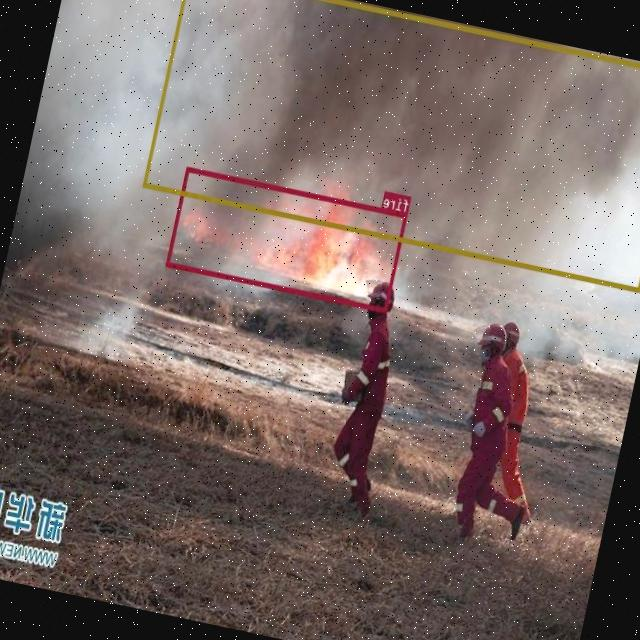fire: (166, 166, 408, 312)
smoke: (143, 0, 640, 292)
